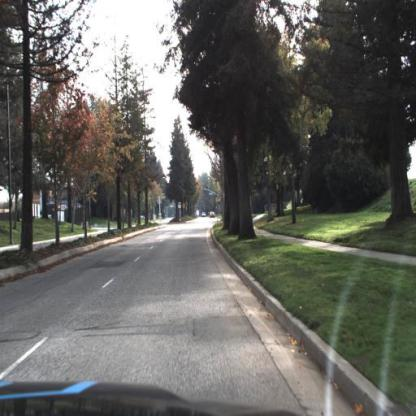car: (211, 213, 216, 220), (203, 213, 208, 219)
trafficLight-Red: (220, 199, 221, 205), (206, 189, 207, 194)
